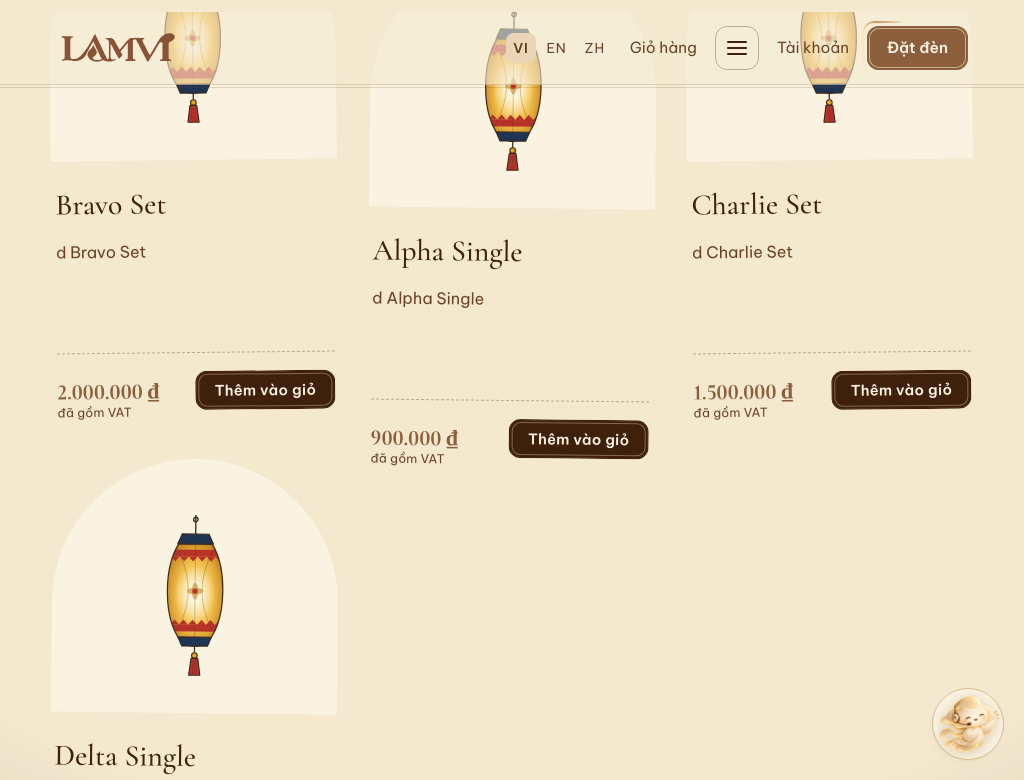
Test case: ShopPage — lọc, sắp xếp, đếm › thêm vào giỏ từ thẻ ở /shop → tooltip hiện trên navbar
Click the button "Thêm vào giỏ" next to "900.000 ₫" at (579, 439), box [509,418,649,459]
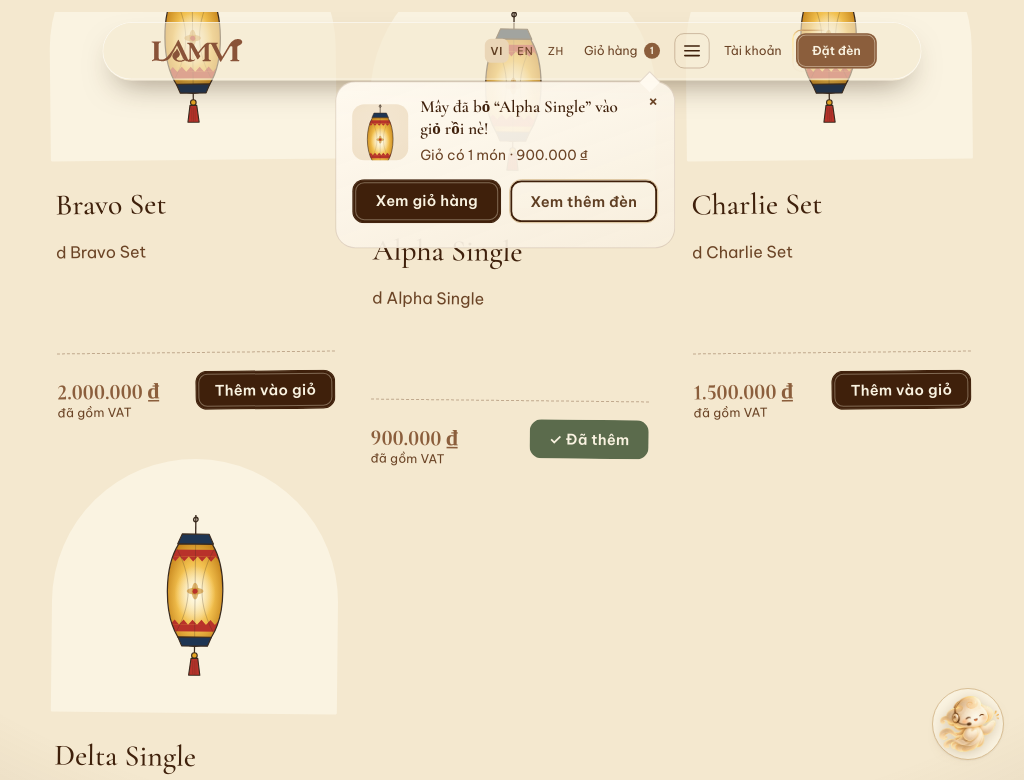
Result: the message with class "cart-bubble" is shown at [335,81,675,248]
Result: the message with class "cart-bubble" shows "Alpha Single" at [420,96,618,139]
